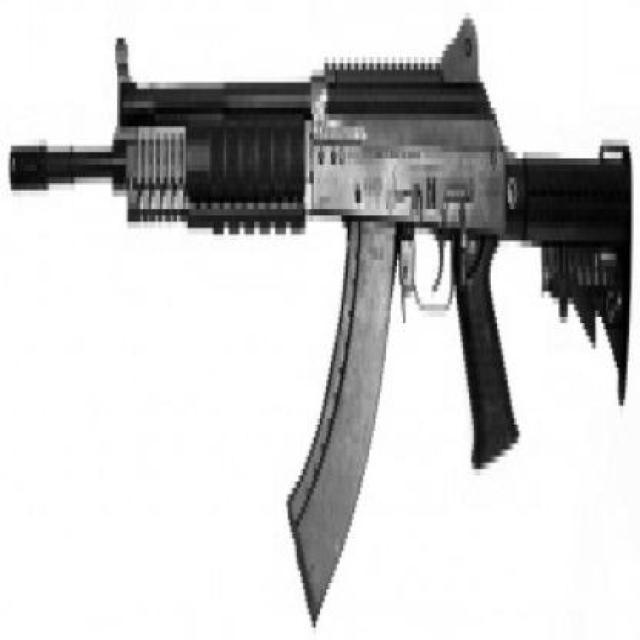weapon: (11, 18, 637, 632)
